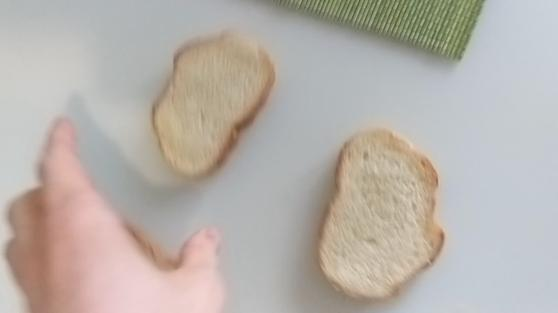white_bread: (314, 130, 446, 303), (146, 30, 279, 180)
